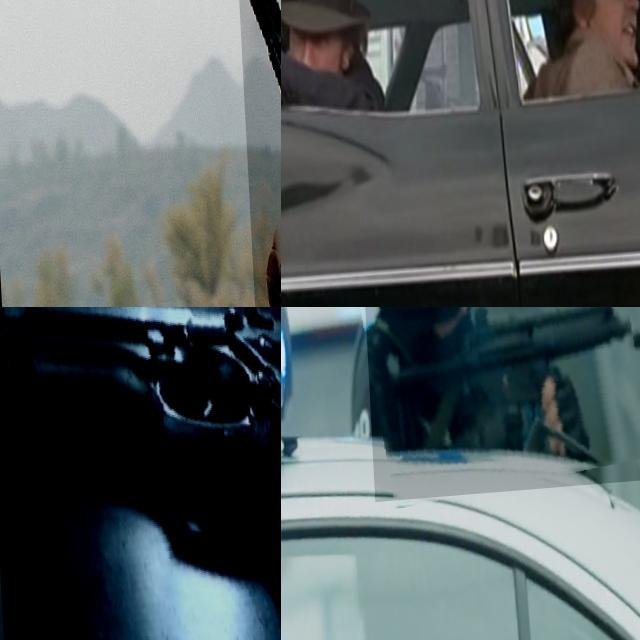gun-knife-thesis - v11 Yolov5 augmented: (0, 307, 281, 640), (360, 307, 640, 507), (235, 0, 281, 307), (281, 0, 334, 97)
